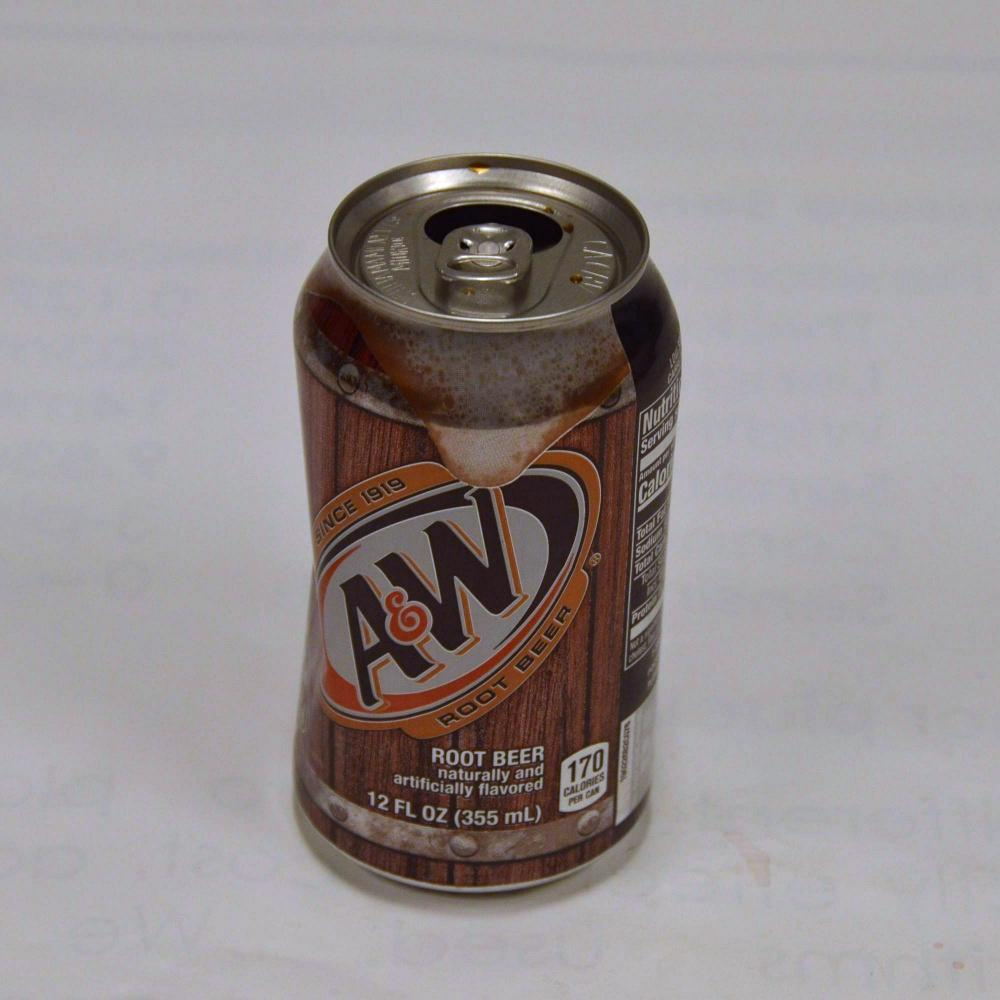Metal: (256, 110, 686, 925)
